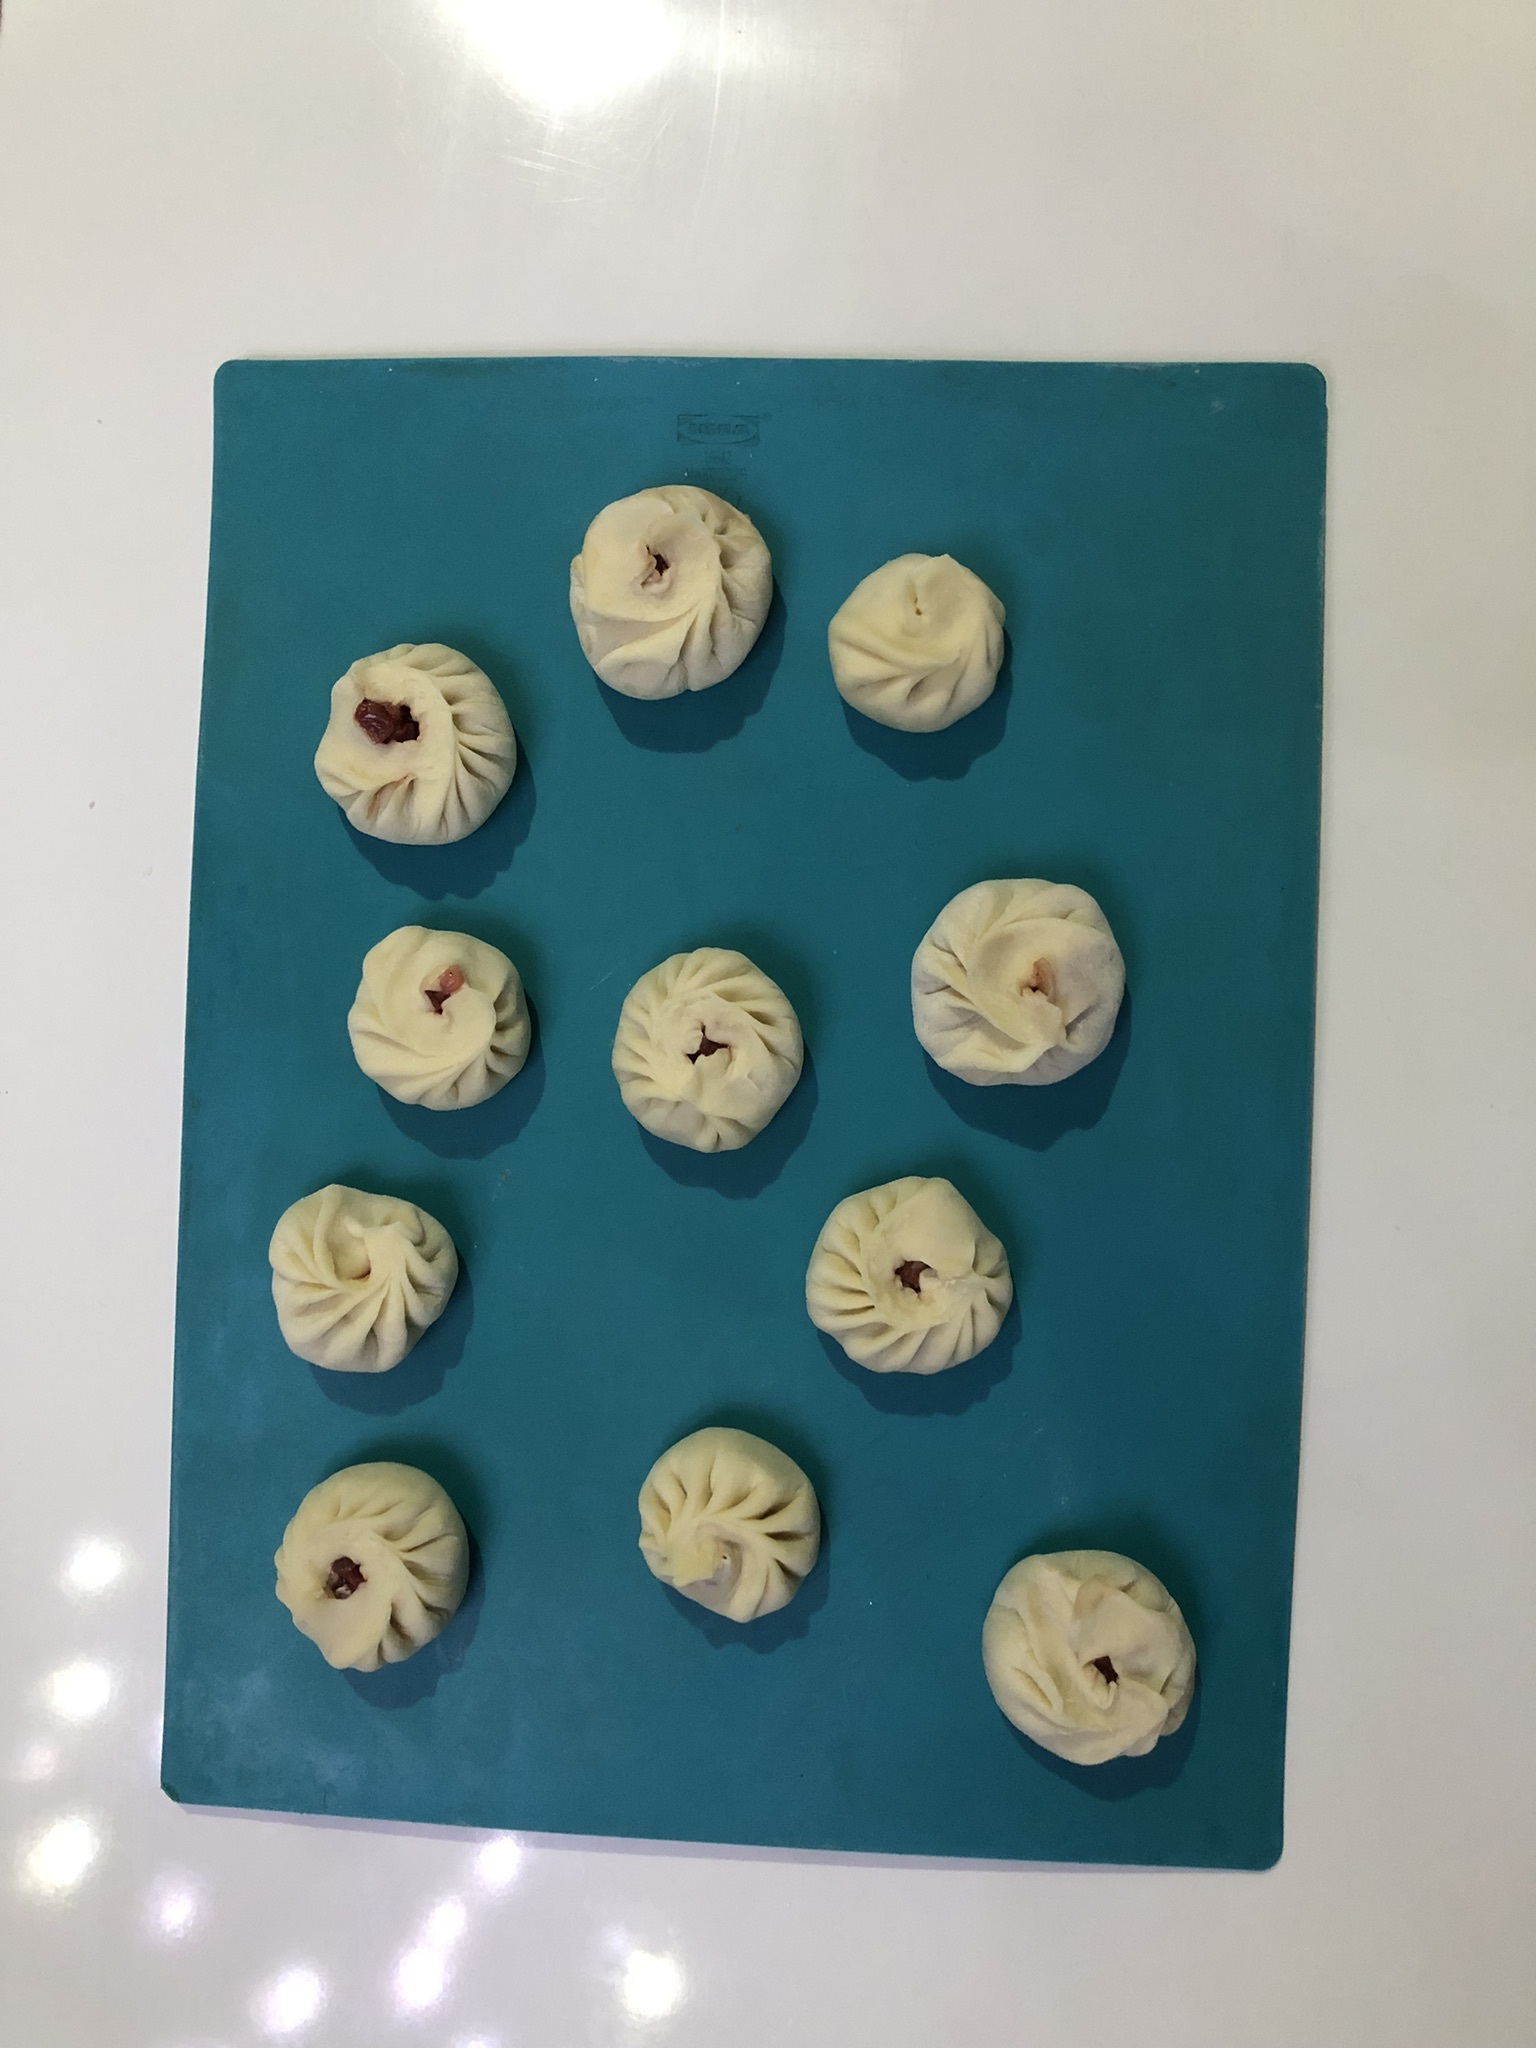buuz: (966, 1538, 1220, 1780), (895, 864, 1139, 1106), (555, 471, 787, 718), (302, 626, 529, 861), (261, 1455, 487, 1684), (800, 1168, 1026, 1388), (628, 1419, 845, 1634), (607, 942, 816, 1164), (258, 1176, 479, 1384), (816, 534, 1020, 755), (332, 918, 545, 1118)
